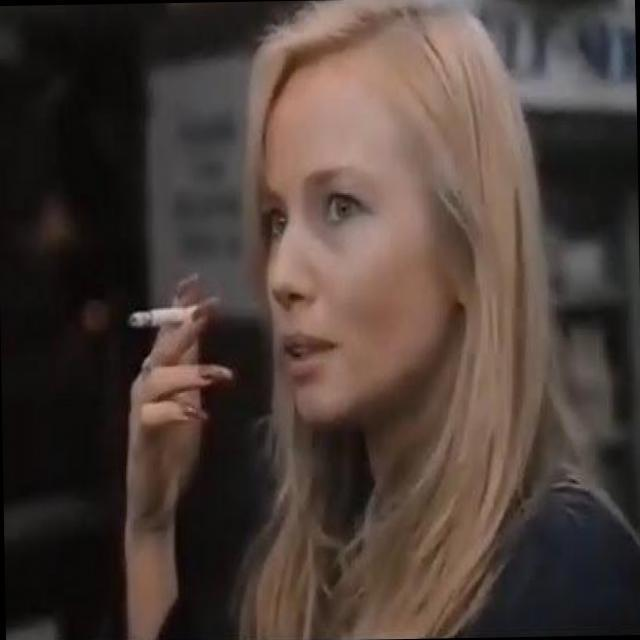cigarette: (128, 300, 218, 338)
